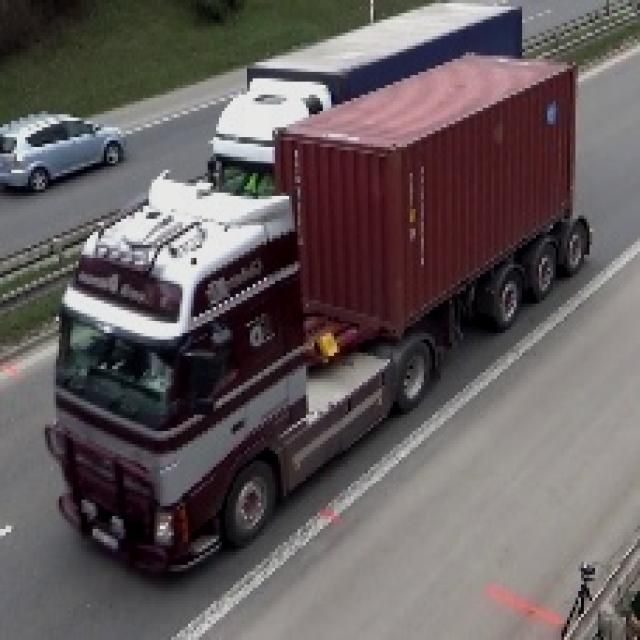SUV: (2, 116, 129, 192)
TRUCK: (47, 59, 601, 578)
